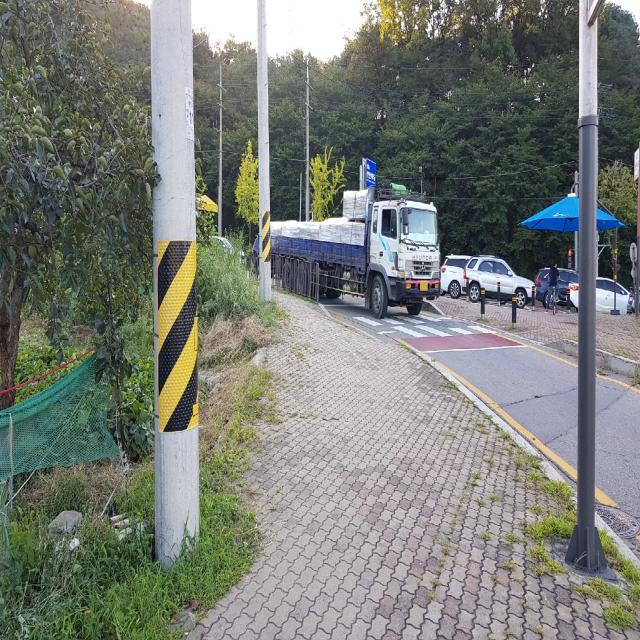횡단보도: (352, 314, 498, 338)
